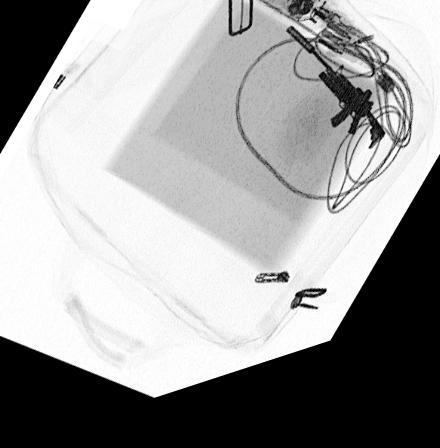Gun: (285, 42, 387, 171)
